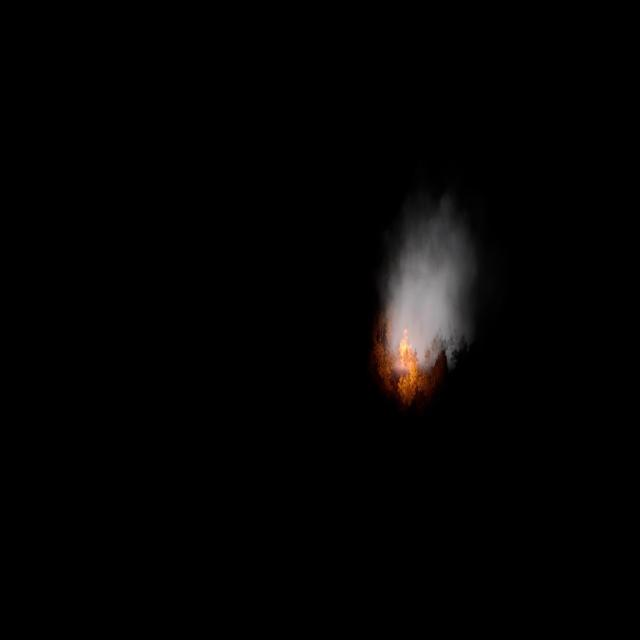fire: (399, 333, 420, 397)
smoke: (376, 191, 474, 371)
